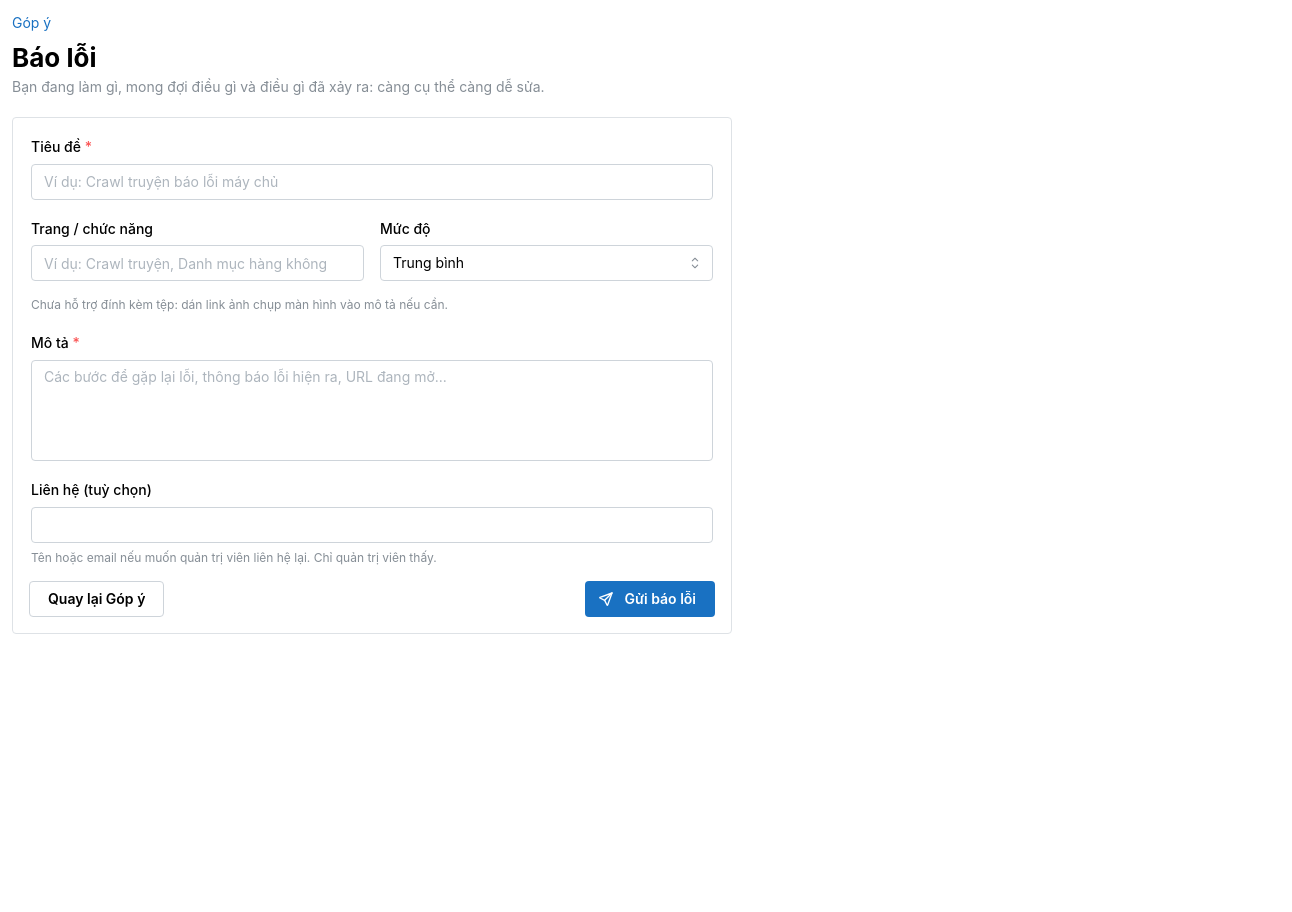
Test case: BugReportPage › gửi báo lỗi kèm mã người gửi, báo thành công rồi quay về trang Góp ý
Type "  Lỗi khi crawl truyện " into the field labelled "Tiêu đề *" at coordinates (372, 182), box [31,164,713,200]
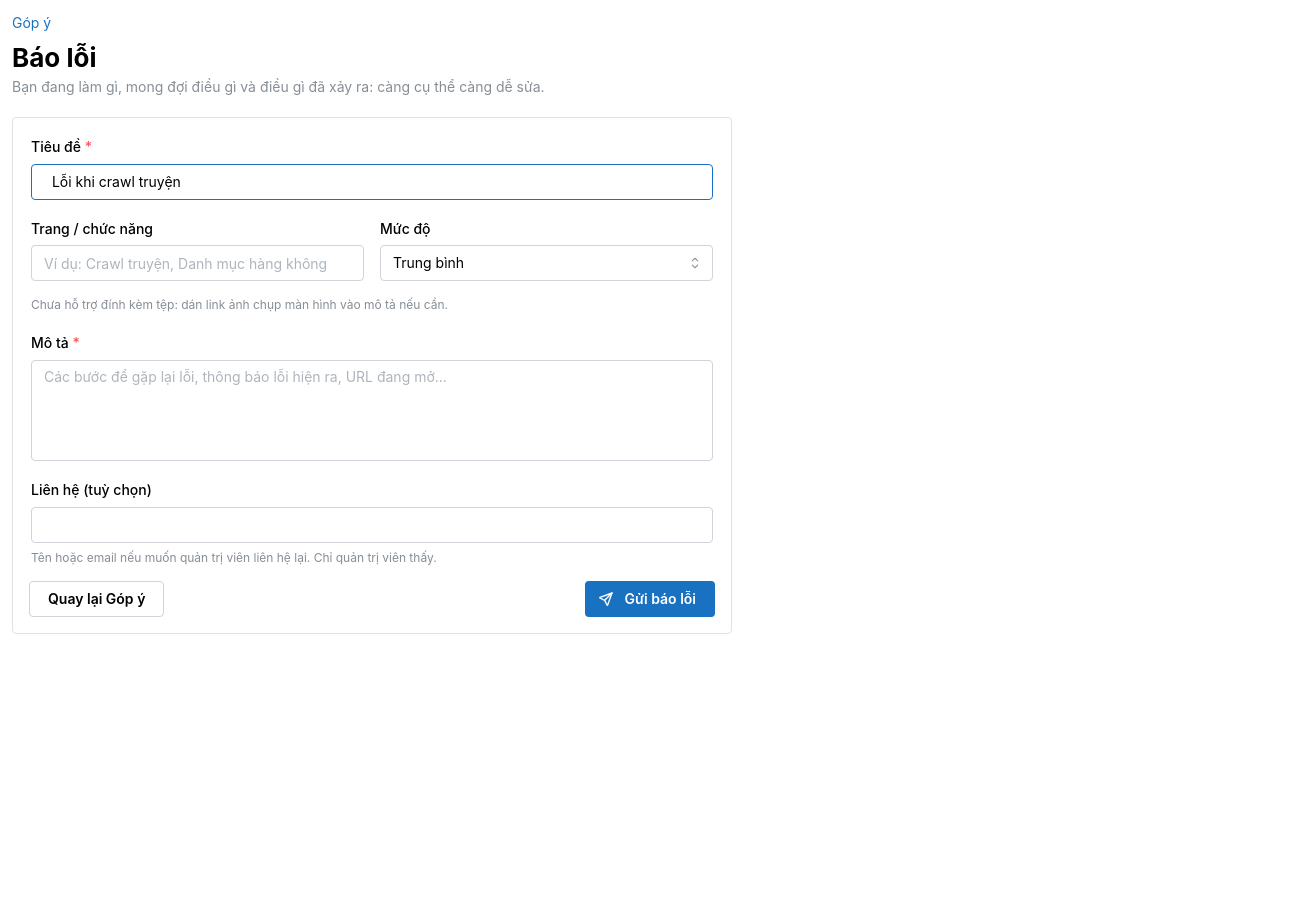
Type "Crawl truyện" into the field labelled "Trang / chức năng" at coordinates (198, 264), box [31,246,364,282]
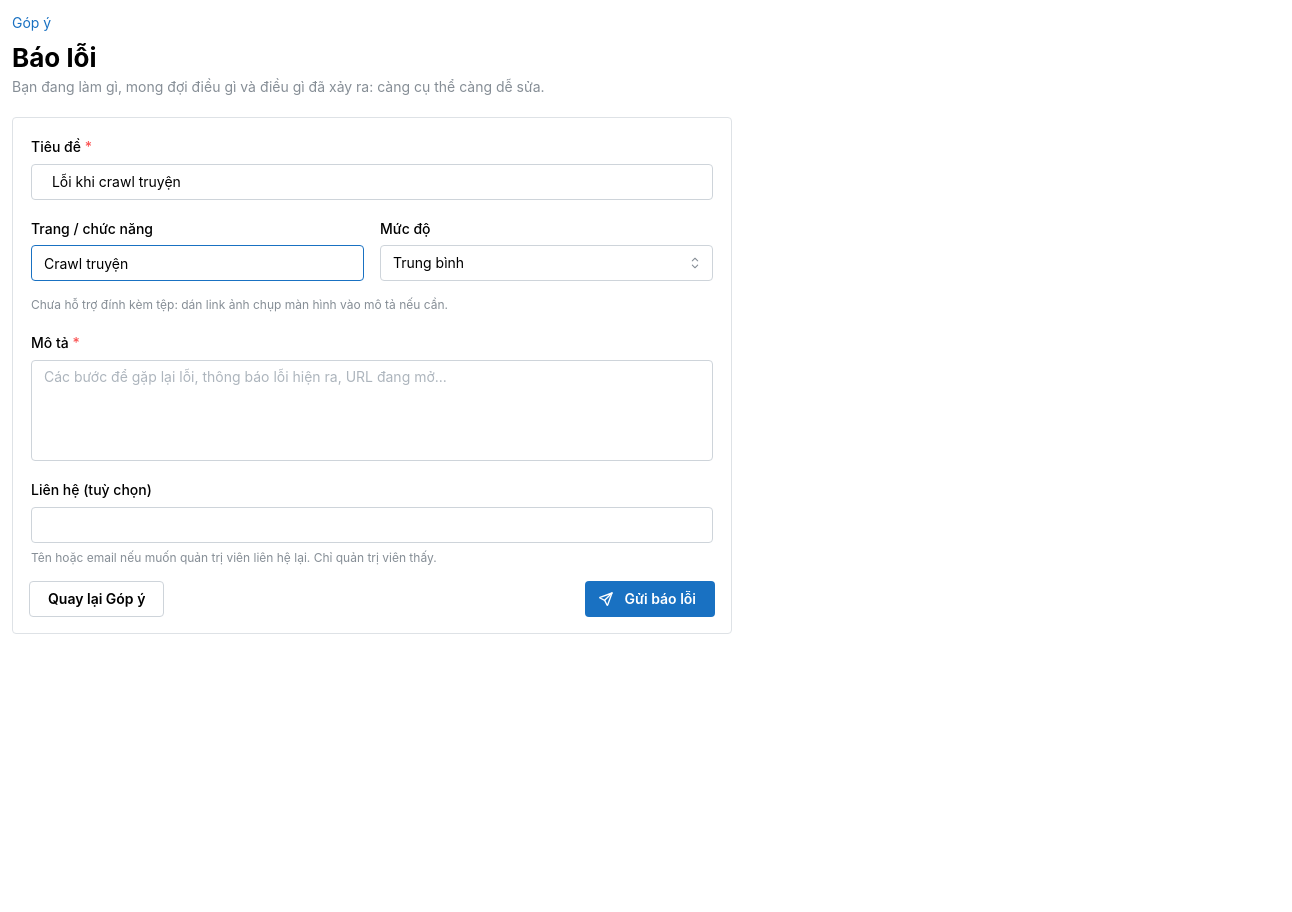
Select "Cao" in the dropdown labelled "Mức độ" at coordinates (546, 264), box [380,246,713,282]
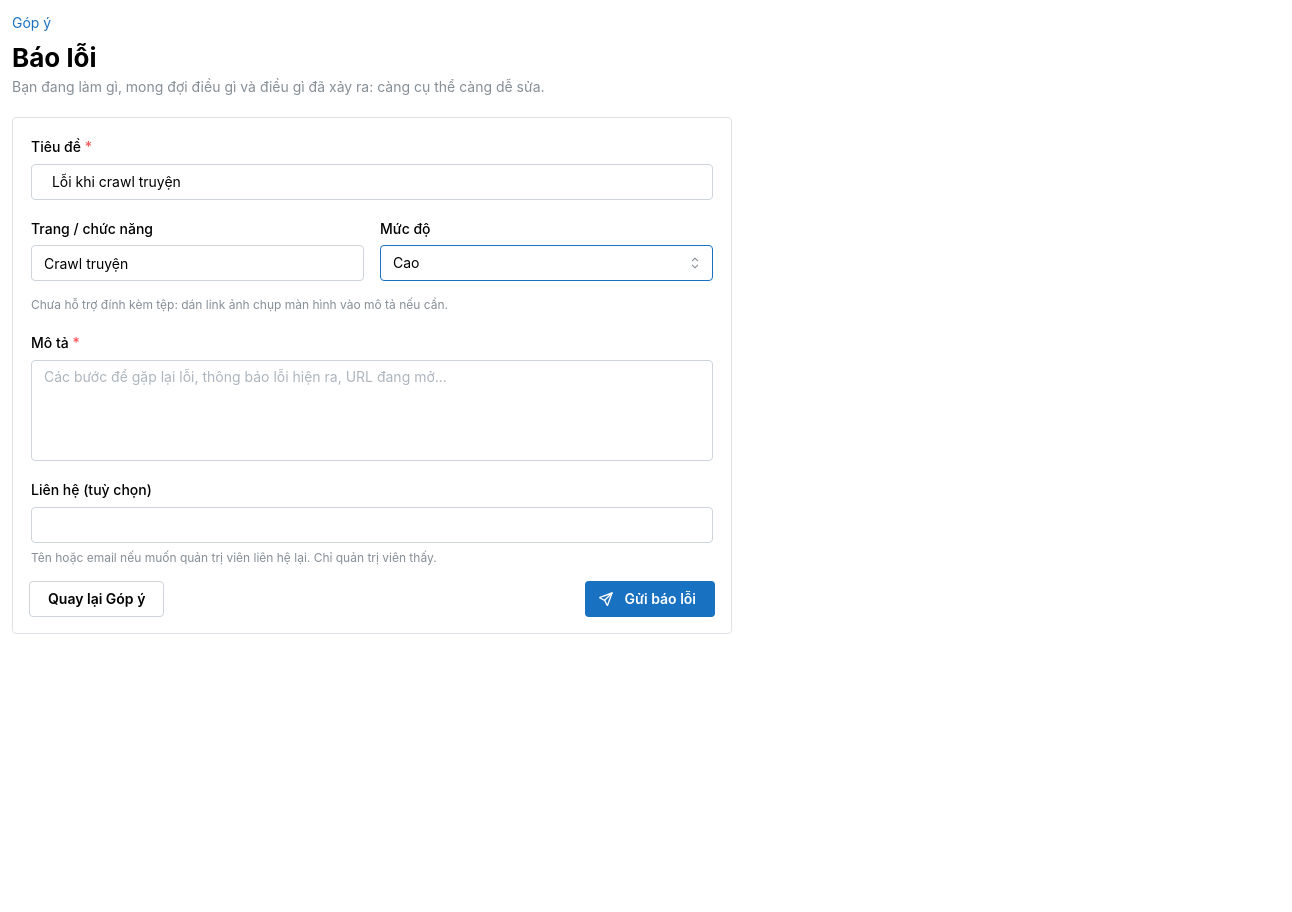
Type "Bấm Bắt đầu crawl thì báo lỗi máy chủ." into the text box labelled "Mô tả *" at coordinates (372, 410), box [31,360,713,461]
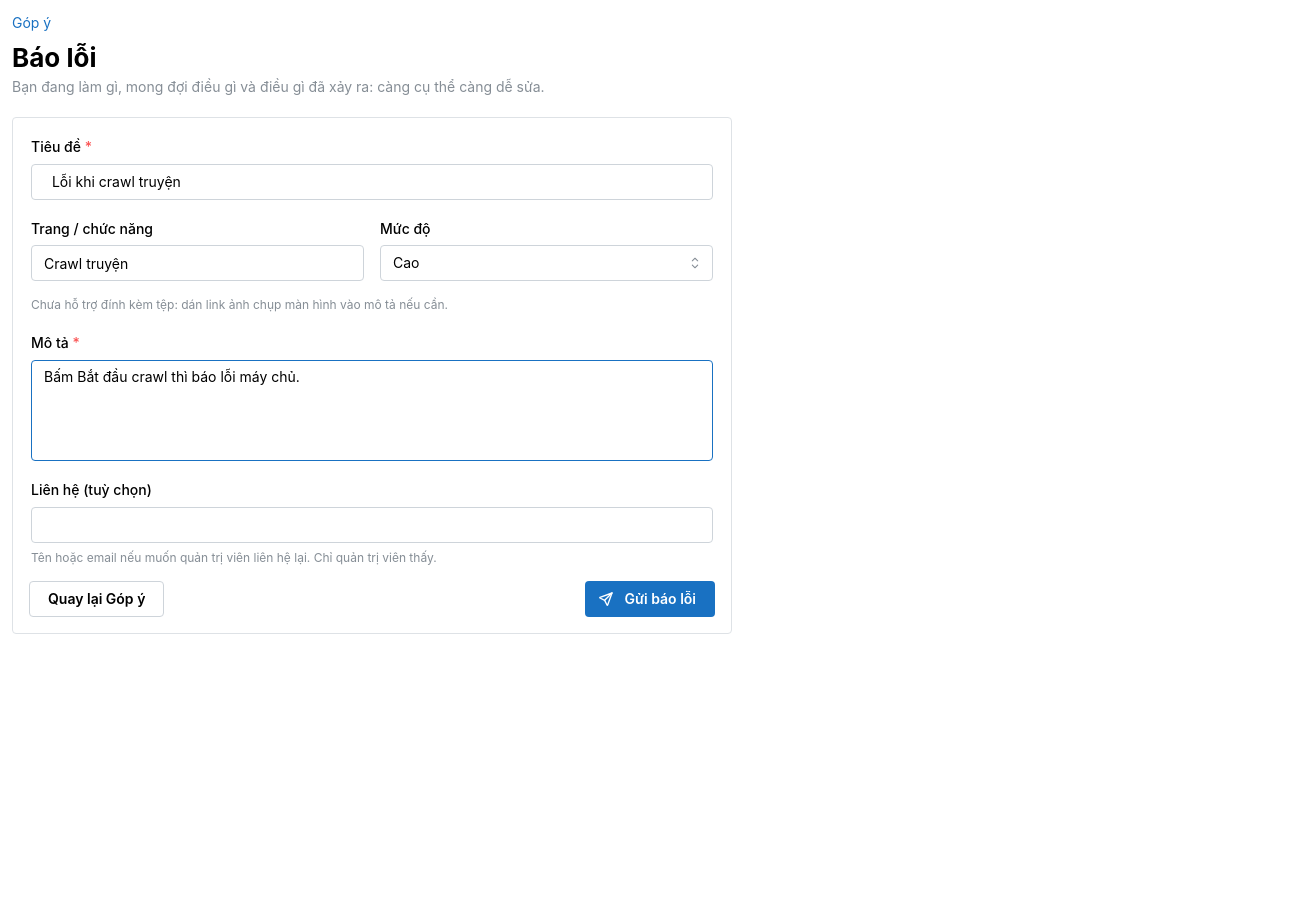
Click the button "Gửi báo lỗi" at coordinates (650, 599), box [586,581,715,617]
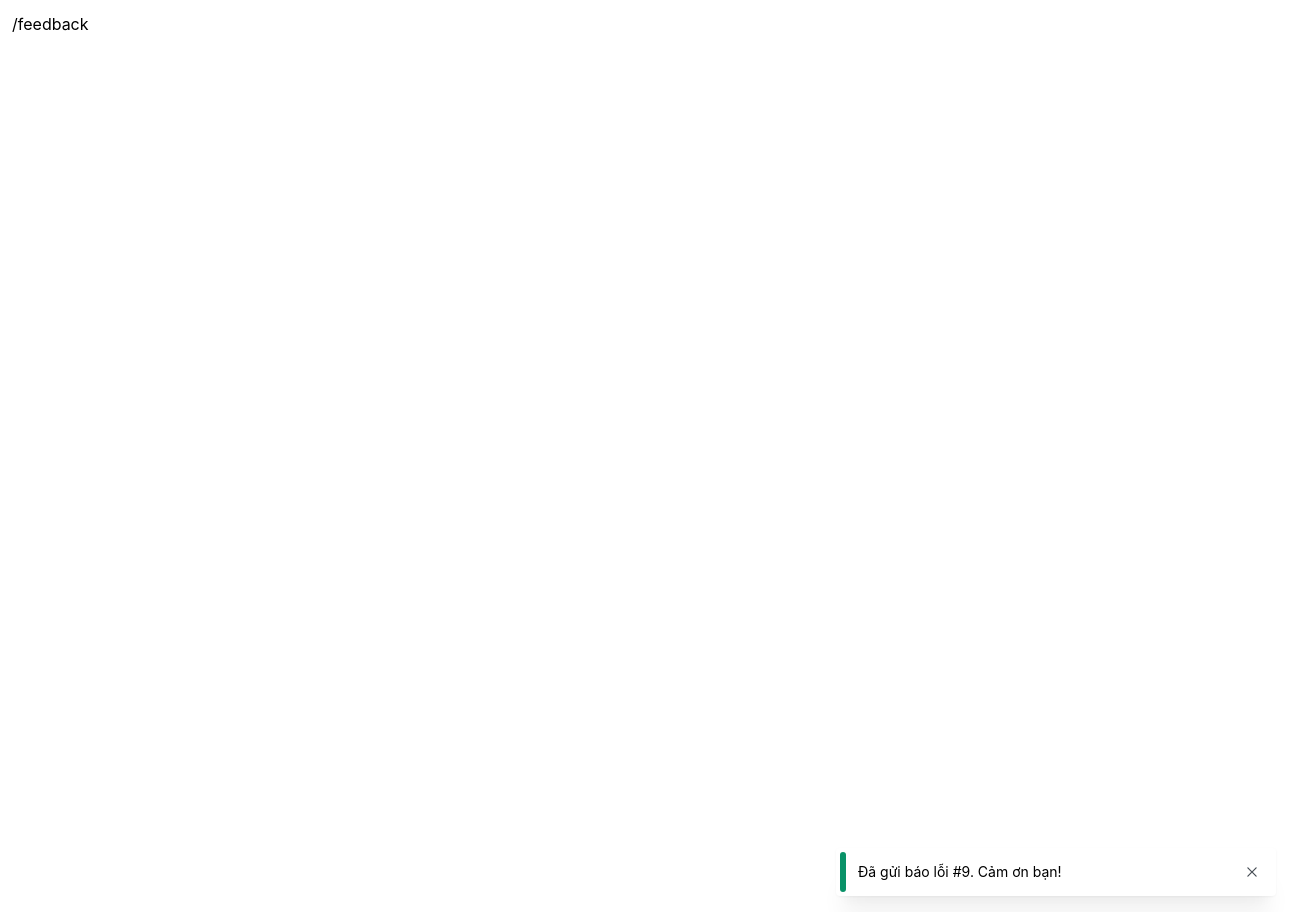
expect the text named "Trang hiện tại" reads "/feedback": met, box [12,14,88,34]
expect the text "Đã gửi báo lỗi #9. Cảm ơn bạn!" is shown: met, box [858,863,1062,880]
